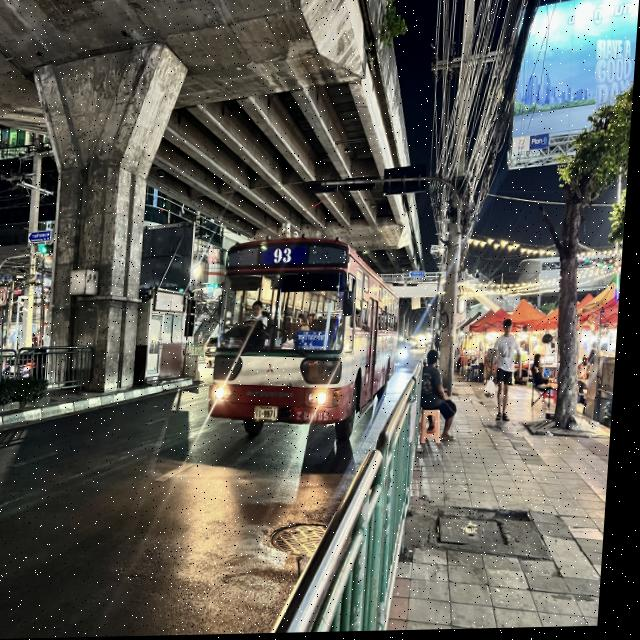BMTA-bus: (212, 235, 403, 468)
Bus-Line-Number: (263, 244, 314, 267)
Destination-Sign-Normal: (300, 330, 337, 352)
